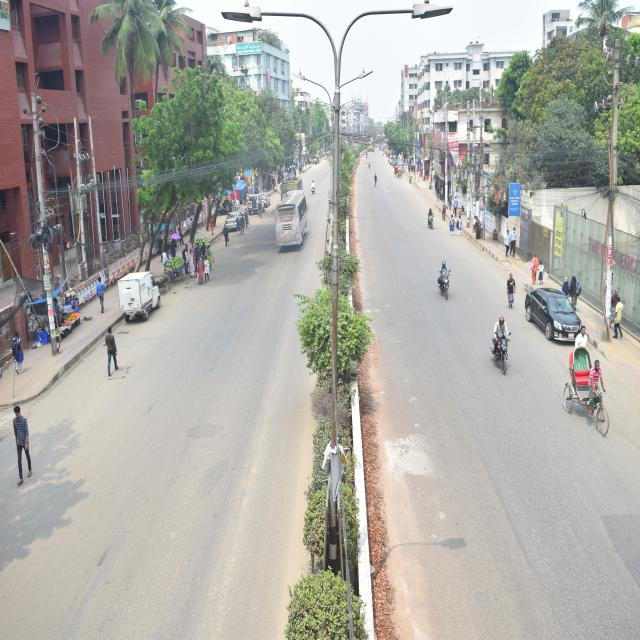bus: (276, 195, 308, 251), (277, 166, 304, 208)
car: (523, 276, 575, 358), (232, 184, 260, 214), (216, 193, 239, 229)
motorbike: (485, 318, 522, 373), (432, 266, 452, 294), (425, 208, 439, 240)
pickup-van: (113, 273, 168, 329)
